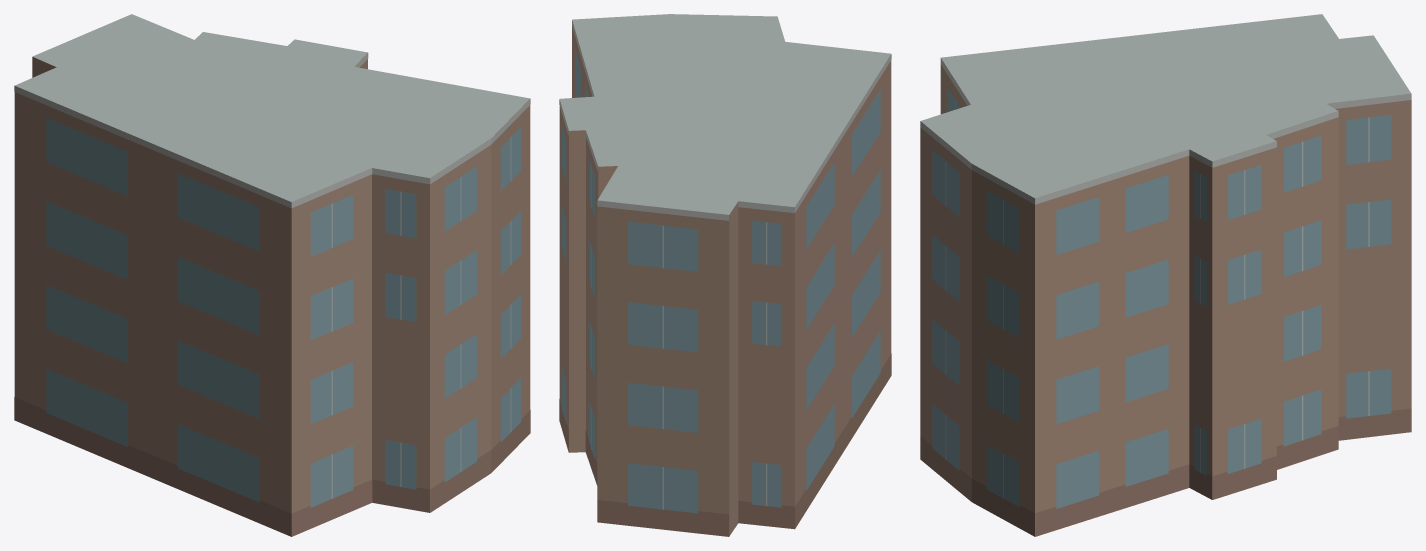
The model's file is survey-upis-32495106.glb.
The picture shows the model from 3 angles, left to right: view 1: azimuth 30°, elevation 25°; view 2: azimuth 150°, elevation 25°; view 3: azimuth 270°, elevation 25°; orthographic projection. The views are drawn at different scales.
Parts seen in each view (by area): view 1: survey-upis-32495106.tmp; view 2: survey-upis-32495106.tmp; view 3: survey-upis-32495106.tmp.
Part boxes in pixels (x1,y1,x2,y2): survey-upis-32495106.tmp: (14, 14, 530, 536); survey-upis-32495106.tmp: (559, 14, 891, 536); survey-upis-32495106.tmp: (920, 14, 1411, 536).
Bounding box in the file's own units: 15.44 × 13.2 × 17.37.
